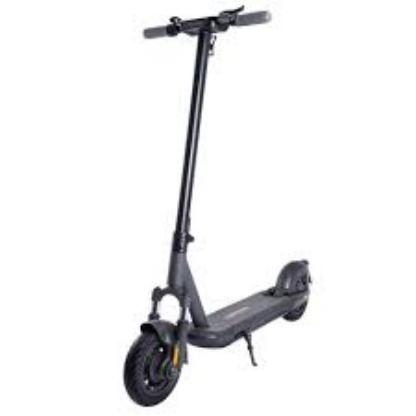bike: (121, 3, 314, 411)
